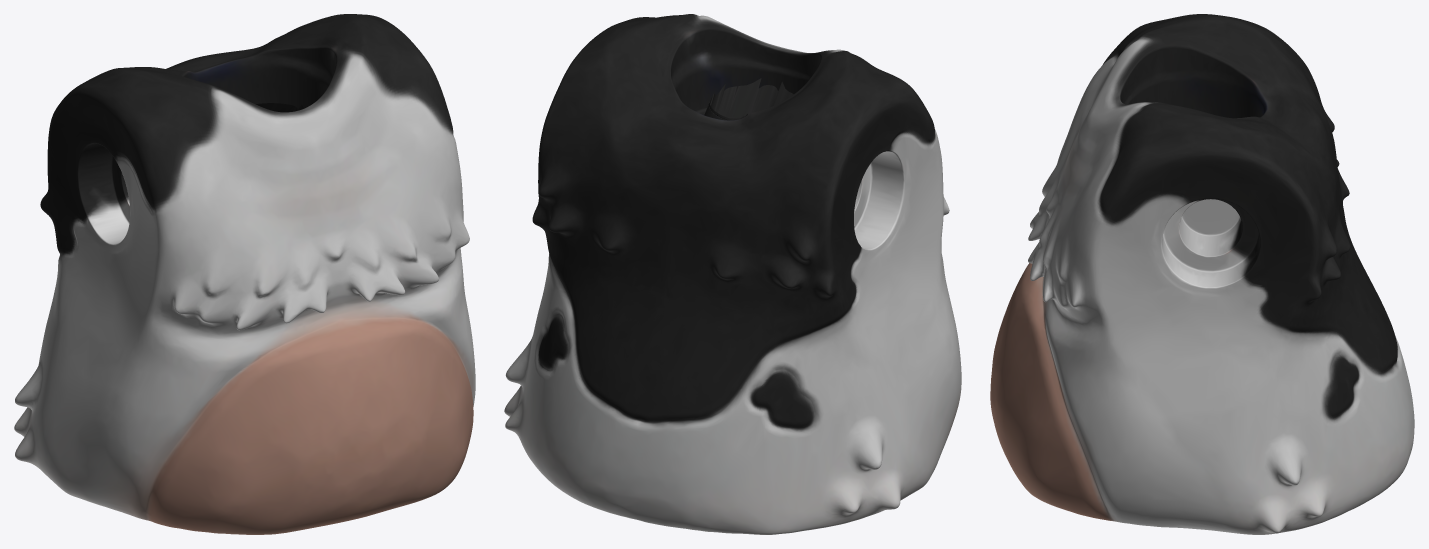
Rendered from Buste_Vache.glb.
3 views of the same model, side by side, from view 1: azimuth 30°, elevation 25°; view 2: azimuth 150°, elevation 25°; view 3: azimuth 270°, elevation 25° (orthographic). The views are drawn at different scales.
Parts seen in each view (by area): view 1: Buste_Vache; view 2: Buste_Vache; view 3: Buste_Vache.
Boxes of the visible parts, x1=… form: Buste_Vache: x1=14, y1=14, x2=475, y2=534; Buste_Vache: x1=504, y1=14, x2=961, y2=534; Buste_Vache: x1=990, y1=14, x2=1414, y2=534.
Bounding box in the file's own units: 4.08 × 3.89 × 3.9.
